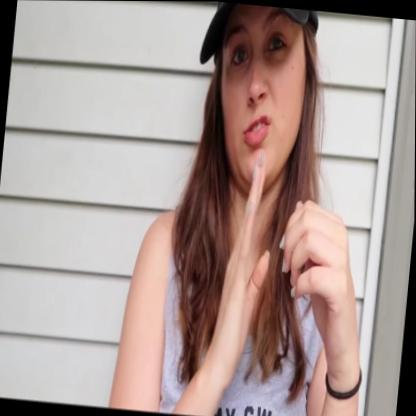Talk: (172, 1, 310, 416)
